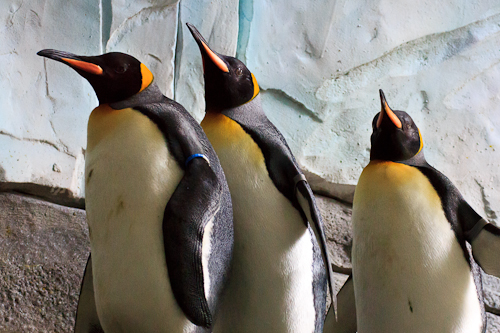penguin: (33, 48, 232, 333), (161, 22, 336, 333), (350, 87, 500, 331)
